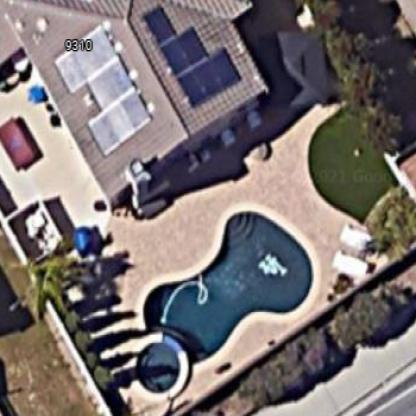pool: (113, 200, 322, 397)
